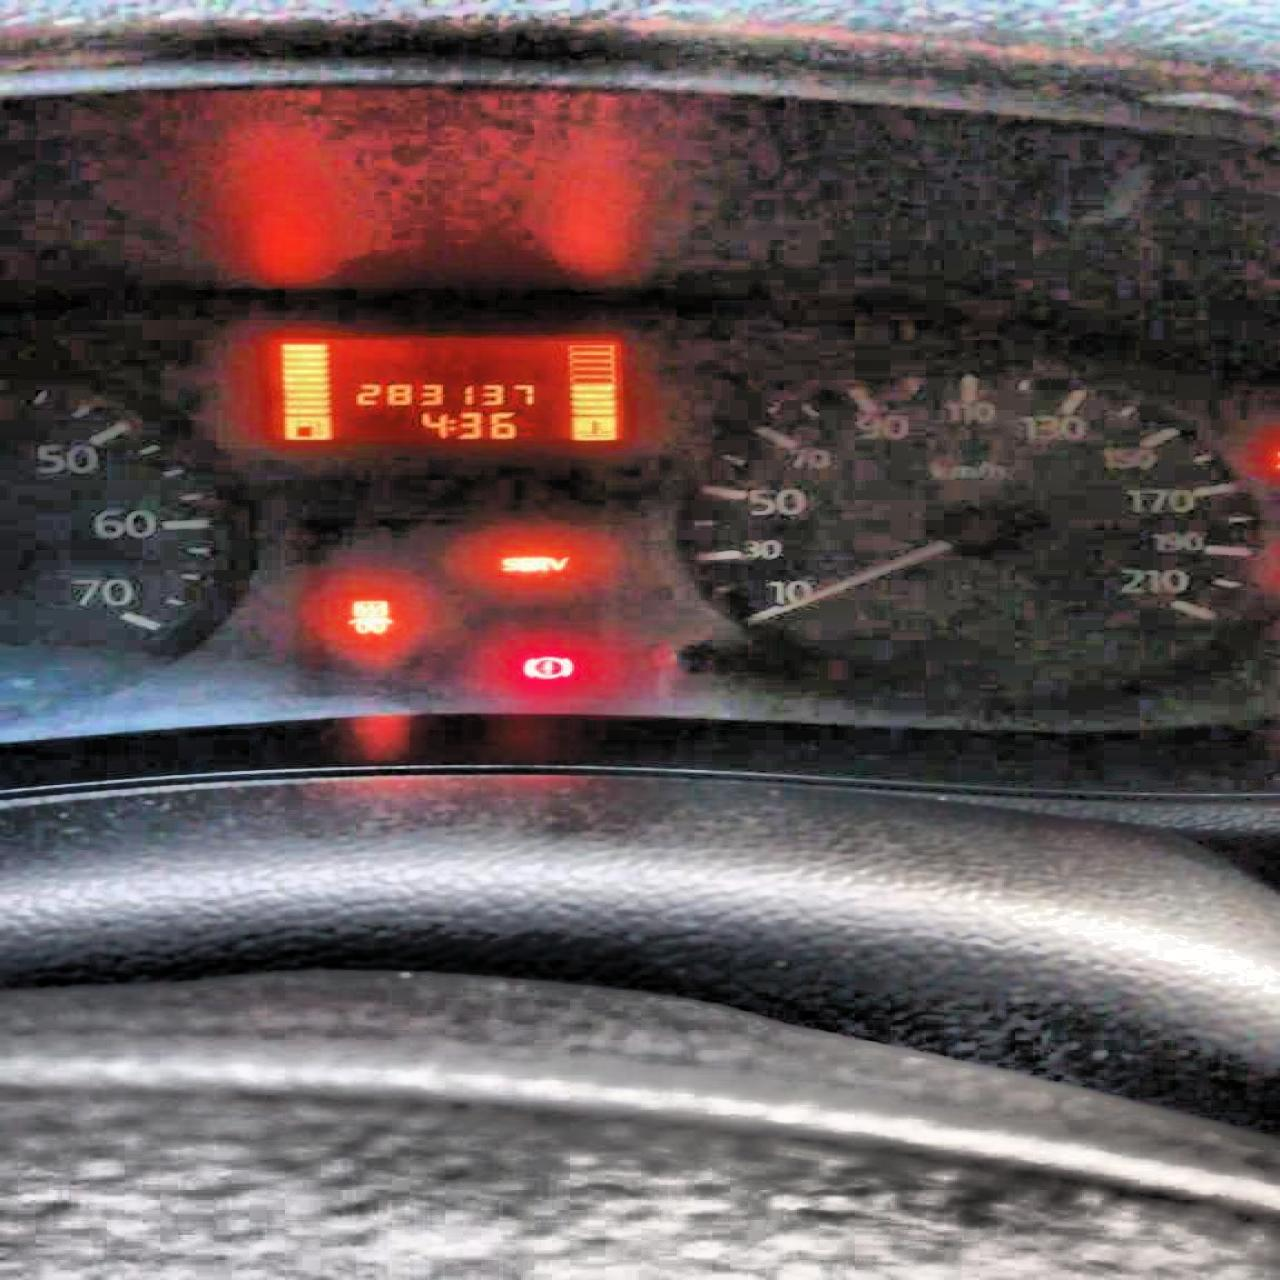1: (458, 383, 475, 406)
2: (354, 382, 381, 407)
3: (458, 411, 481, 438), (418, 383, 441, 406), (481, 382, 503, 403)
4: (418, 411, 445, 438)
6: (488, 410, 517, 440)
7: (512, 383, 535, 406)
8: (386, 382, 411, 407)
X: (445, 417, 456, 431)
odometer: (260, 334, 634, 444)
